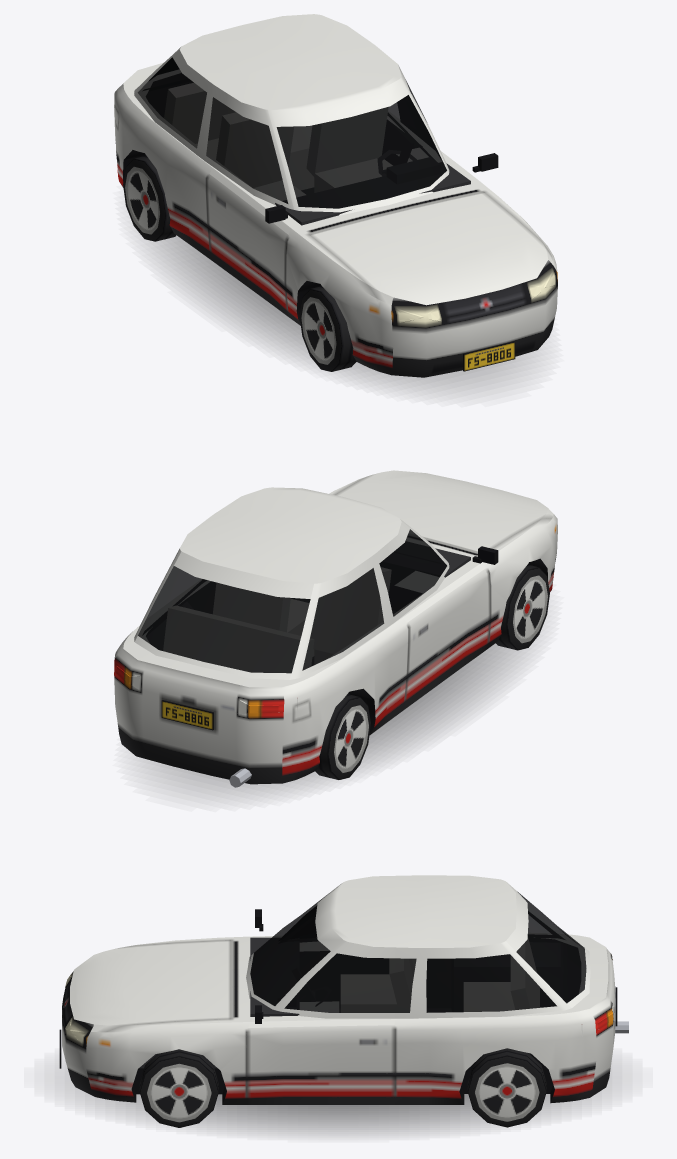
The model's file is fosforo.glb.
3 views of the same model, one above another, from view 1: azimuth 30°, elevation 25°; view 2: azimuth 150°, elevation 25°; view 3: azimuth 270°, elevation 25° (orthographic). The views are drawn at different scales.
Parts seen in each view (by area): view 1: Carroceria, Interior, Capo_malha, Porta_D_malha, Sombra, Roda_DD, Roda_TD, Porta_E_malha; view 2: Carroceria, Tampa_malha, Interior, Porta_D_malha, Capo_malha, Sombra, Roda_TD, Roda_DD, Lanterna; view 3: Carroceria, Interior, Porta_E_malha, Capo_malha, Sombra, Tampa_malha, Roda_TE, Roda_DE, Porta_D_malha.
Part boxes in pixels (x1=…): Carroceria: x1=114, y1=14, x2=557, y2=377; Interior: x1=143, y1=73, x2=470, y2=225; Capo_malha: x1=308, y1=192, x2=553, y2=305; Porta_D_malha: x1=206, y1=94, x2=293, y2=309; Sombra: x1=149, y1=236, x2=533, y2=391; Roda_DD: x1=299, y1=286, x2=356, y2=371; Roda_TD: x1=123, y1=155, x2=176, y2=241; Porta_E_malha: x1=397, y1=65, x2=498, y2=172; Carroceria: x1=114, y1=473, x2=557, y2=787; Tampa_malha: x1=135, y1=551, x2=313, y2=760; Interior: x1=143, y1=542, x2=470, y2=672; Porta_D_malha: x1=387, y1=521, x2=498, y2=699; Capo_malha: x1=334, y1=470, x2=553, y2=552; Sombra: x1=143, y1=643, x2=527, y2=796; Roda_TD: x1=315, y1=694, x2=370, y2=779; Roda_DD: x1=496, y1=564, x2=549, y2=650; Lanterna: x1=116, y1=666, x2=297, y2=714; Carroceria: x1=59, y1=875, x2=628, y2=1104; Interior: x1=139, y1=911, x2=580, y2=1068; Porta_E_malha: x1=247, y1=941, x2=395, y2=1097; Capo_malha: x1=75, y1=940, x2=231, y2=1032; Sombra: x1=64, y1=1065, x2=612, y2=1134; Tampa_malha: x1=506, y1=882, x2=617, y2=1043; Roda_TE: x1=467, y1=1048, x2=546, y2=1127; Roda_DE: x1=139, y1=1049, x2=218, y2=1127; Porta_D_malha: x1=255, y1=906, x2=316, y2=940.
Size of the model in its own units: 2.32 by 1.39 by 4.75.
Materials: 12 (6 with a texture image).
